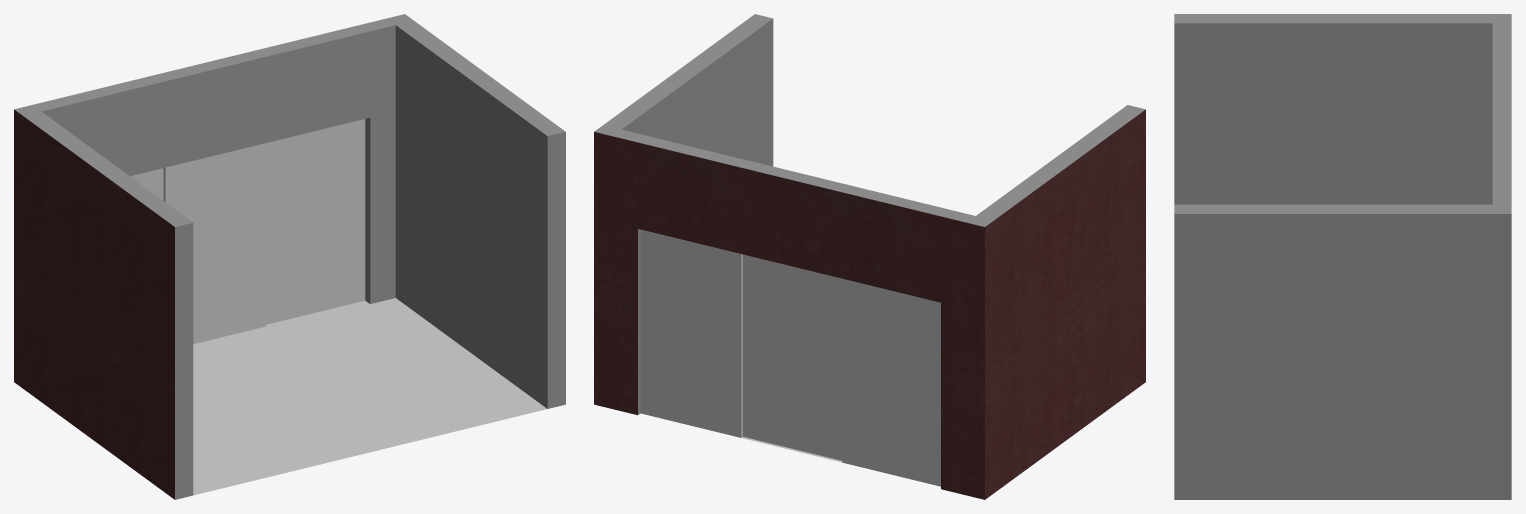
The model's file is yakuza_office.FBX.
3 views of the same model, side by side, from view 1: azimuth 30°, elevation 25°; view 2: azimuth 150°, elevation 25°; view 3: azimuth 270°, elevation 25° (orthographic). The views are drawn at different scales.
Visible parts, largest first — view 1: yakuza_office_walls, yakuza_office_floor, shoji_door, shoji_door001; view 2: yakuza_office_walls, shoji_door, shoji_door001, shoji_door002; view 3: yakuza_office_walls.
Part boxes in pixels (<box>): yakuza_office_walls: <box>14,14,565,499</box>; yakuza_office_floor: <box>193,298,546,495</box>; shoji_door: <box>266,119,365,324</box>; shoji_door001: <box>163,143,266,343</box>; yakuza_office_walls: <box>594,14,1145,499</box>; shoji_door: <box>640,229,742,437</box>; shoji_door001: <box>743,254,842,460</box>; shoji_door002: <box>842,278,940,486</box>; yakuza_office_walls: <box>1174,14,1511,499</box>.
Size of the model in its own units: 419 by 280 by 299.
